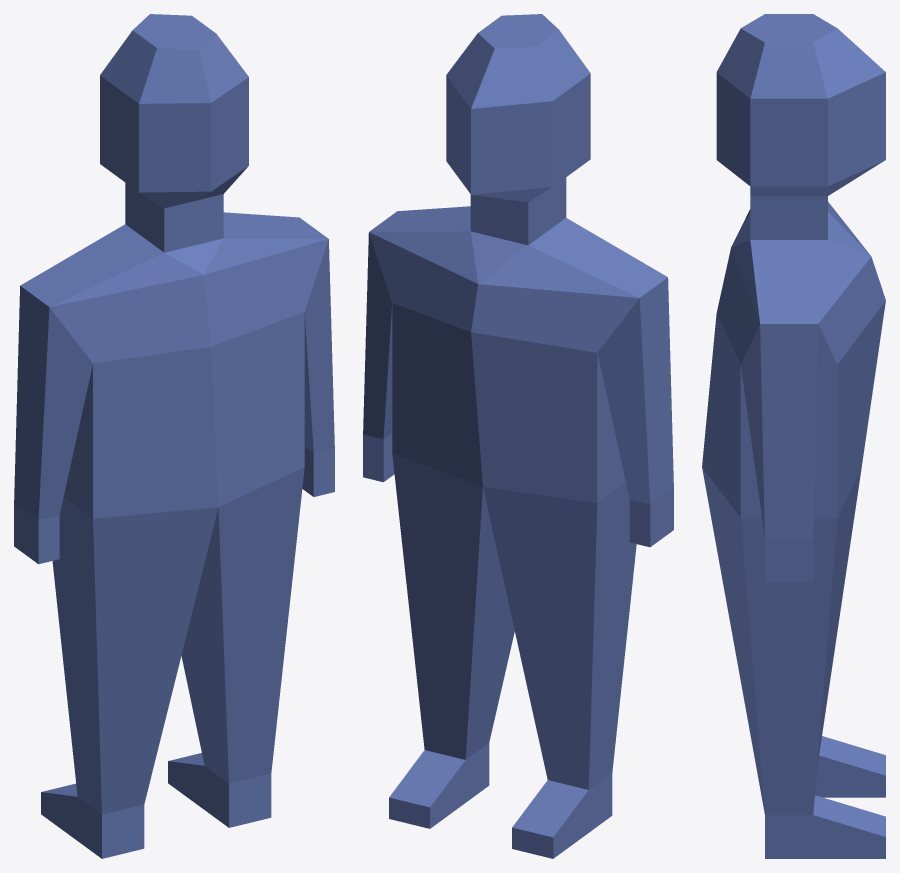
Rendered from player.glb.
3 renders of one model, left to right at view 1: azimuth 30°, elevation 25°; view 2: azimuth 150°, elevation 25°; view 3: azimuth 270°, elevation 25°, orthographic. The views are drawn at different scales.
Visible parts, largest first — view 1: Player; view 2: Player; view 3: Player.
Boxes of the visible parts, bbox=[...] form: Player: bbox=[14, 14, 334, 858]; Player: bbox=[363, 14, 673, 858]; Player: bbox=[702, 14, 885, 858].
Size of the model in its own units: 0.7 by 1.8 by 0.38.
